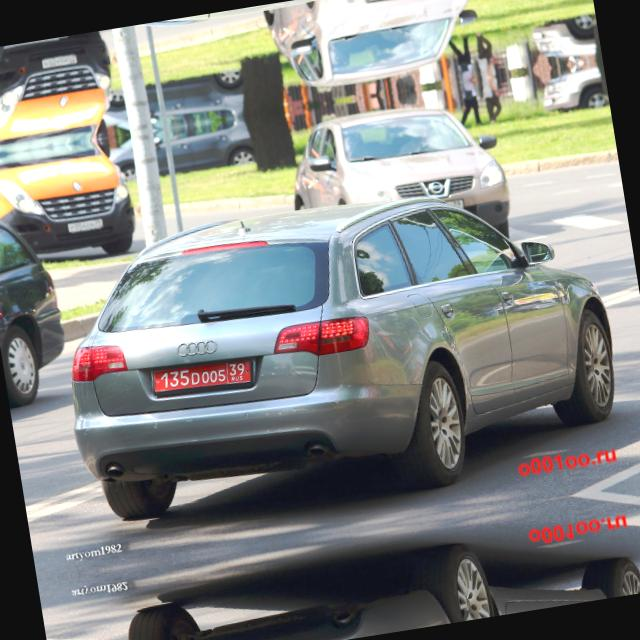diplomatic: (147, 349, 260, 405)
